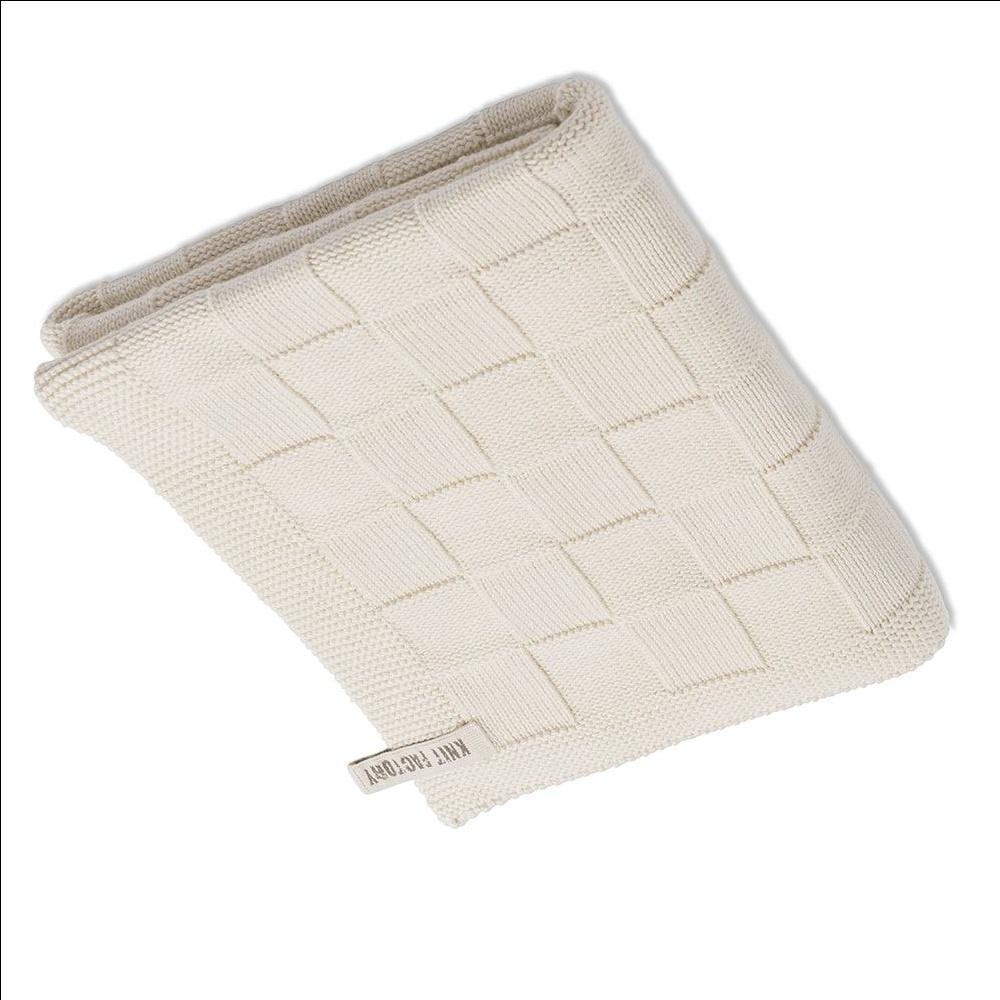towel: (40, 75, 920, 928)
